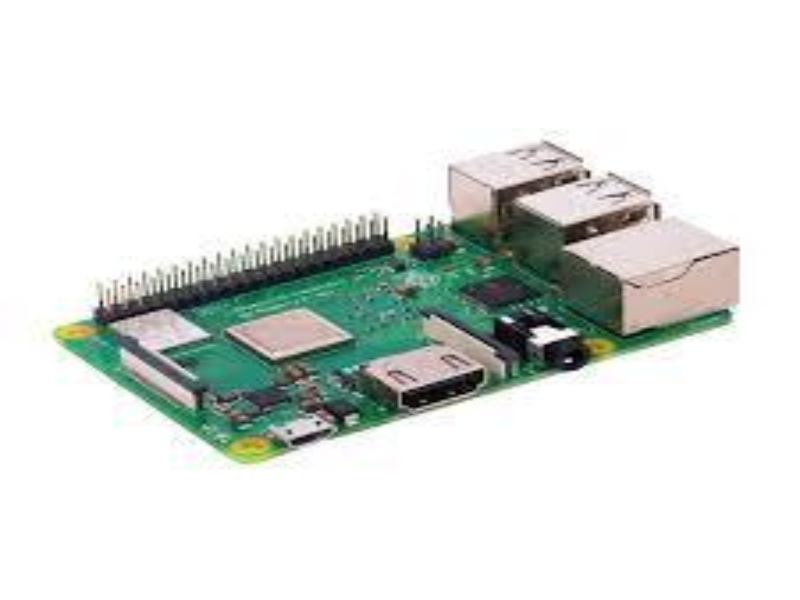raspberrypi: (54, 103, 759, 456)
